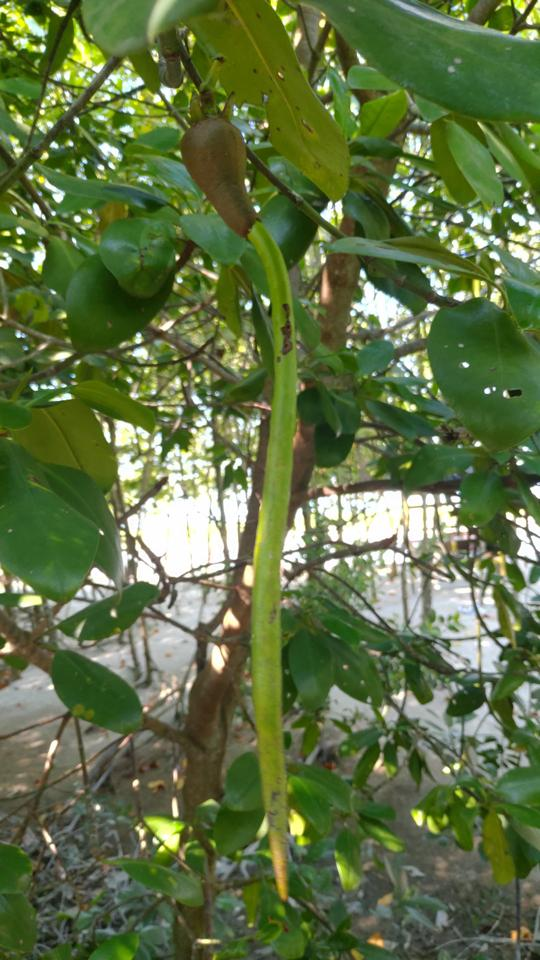mentah: (172, 111, 327, 906)
